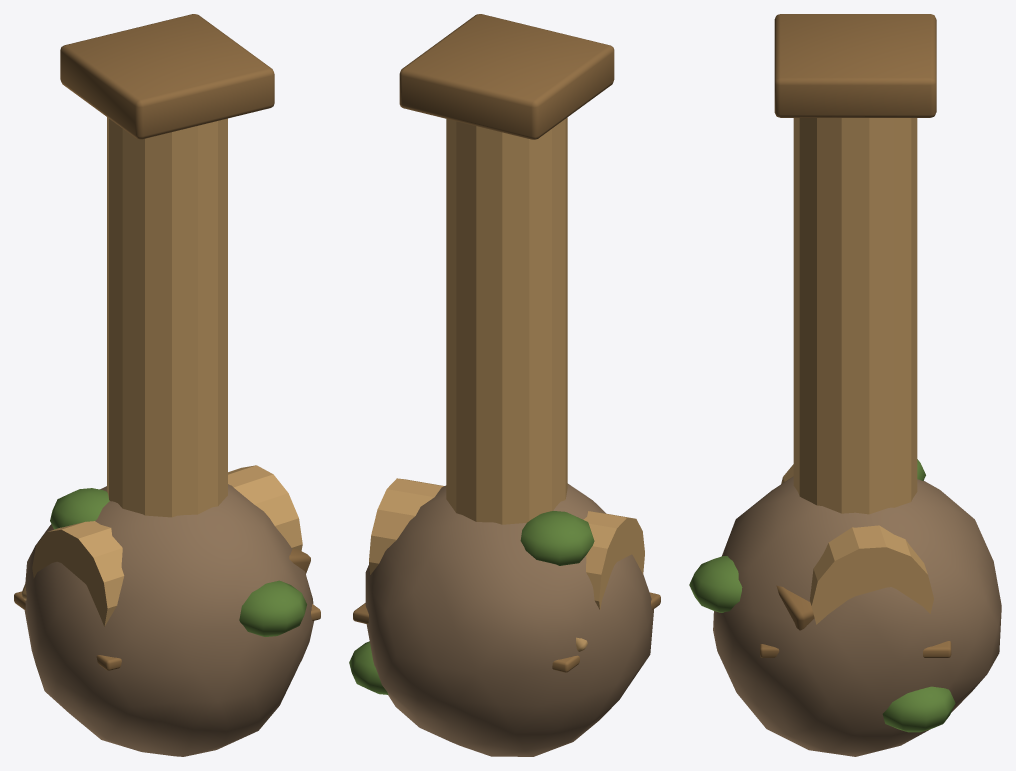
The model's file is props.glb.
3 renders of one model, left to right at view 1: azimuth 30°, elevation 25°; view 2: azimuth 150°, elevation 25°; view 3: azimuth 270°, elevation 25°, orthographic.
Parts seen in each view (by area): view 1: BoulderRock, PillarShaft, PillarCap, RubbleColumn, BoulderMoss0, BoulderMoss1, SpikePlate; view 2: BoulderRock, PillarShaft, PillarCap, RubbleColumn, BoulderMoss1, BoulderMoss2, SpikePlate; view 3: BoulderRock, PillarShaft, PillarCap, RubbleColumn, BoulderMoss2, BoulderMoss0, RubbleChunk, SpikePlate.
Boxes of the visible parts, bbox=[...] form: BoulderRock: bbox=[24, 484, 313, 756]; PillarShaft: bbox=[107, 117, 227, 517]; PillarCap: bbox=[60, 14, 274, 139]; RubbleColumn: bbox=[32, 465, 302, 626]; BoulderMoss0: bbox=[239, 580, 306, 636]; BoulderMoss1: bbox=[50, 488, 109, 529]; SpikePlate: bbox=[14, 591, 320, 670]; BoulderRock: bbox=[365, 483, 653, 756]; PillarShaft: bbox=[446, 117, 567, 524]; PillarCap: bbox=[399, 14, 614, 139]; RubbleColumn: bbox=[369, 478, 644, 609]; BoulderMoss1: bbox=[520, 511, 594, 565]; BoulderMoss2: bbox=[349, 641, 388, 694]; SpikePlate: bbox=[353, 592, 660, 672]; BoulderRock: bbox=[713, 476, 1001, 756]; PillarShaft: bbox=[793, 118, 917, 514]; PillarCap: bbox=[774, 14, 936, 117]; RubbleColumn: bbox=[781, 464, 933, 624]; BoulderMoss2: bbox=[882, 686, 955, 732]; BoulderMoss0: bbox=[689, 556, 742, 612]; RubbleChunk: bbox=[776, 585, 814, 630]; SpikePlate: bbox=[760, 641, 951, 657].
Size of the model in its own units: 1.98 by 5.2 by 2.12.
